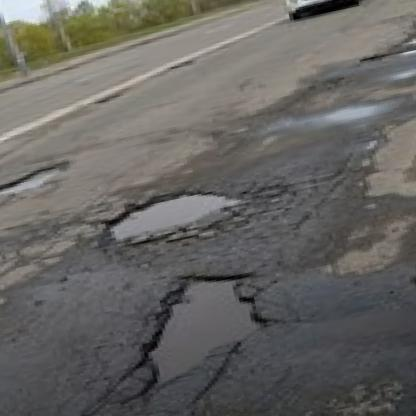pothole: (112, 258, 284, 399), (101, 179, 244, 246), (0, 158, 78, 205), (358, 39, 416, 68), (93, 84, 139, 106), (169, 54, 197, 71)
